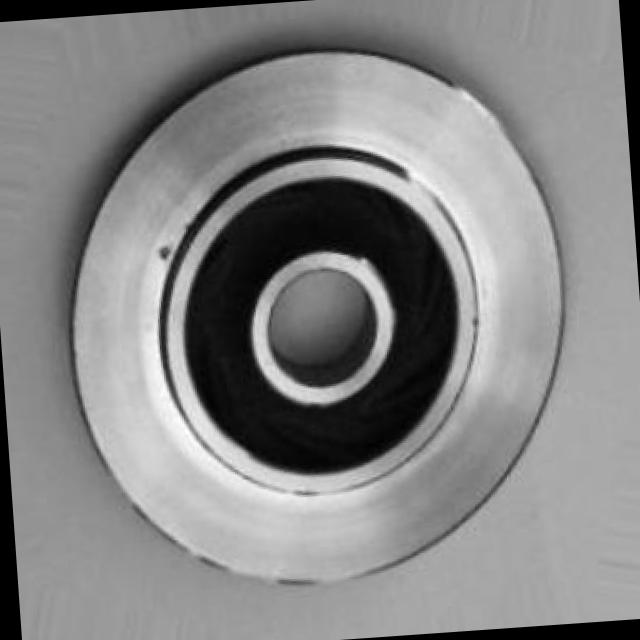Defect: (152, 242, 185, 262)
